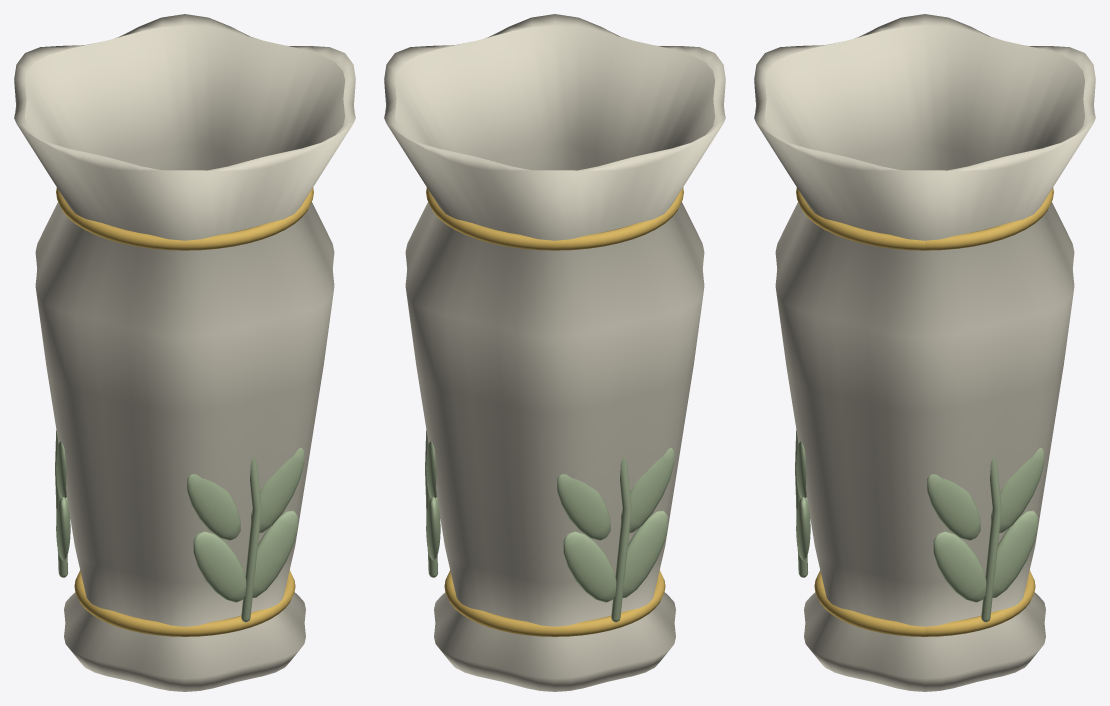
The model's file is vase_lily.glb.
3 renders of one model, left to right at view 1: azimuth 30°, elevation 25°; view 2: azimuth 150°, elevation 25°; view 3: azimuth 270°, elevation 25°, orthographic.
Parts seen in each view (by area): view 1: Ivory_lily_body, Lily_brass_band.001, Lily_brass_band, Relief_leaf, Relief_leaf.001, Relief_leaf.003, Relief_leaf.004, Relief_stem, Relief_leaf.015; view 2: Ivory_lily_body, Lily_brass_band.001, Lily_brass_band, Relief_leaf.012, Relief_leaf.013, Relief_leaf.015, Relief_leaf.016, Relief_stem.002, Relief_leaf.009; view 3: Ivory_lily_body, Lily_brass_band.001, Lily_brass_band, Relief_leaf.006, Relief_leaf.007, Relief_leaf.009, Relief_leaf.010, Relief_stem.001, Relief_leaf.003.
Boxes of the visible parts, x1,y1,x2,y2 form: Ivory_lily_body: [14, 14, 355, 691]; Lily_brass_band.001: [56, 187, 313, 250]; Lily_brass_band: [74, 570, 295, 636]; Relief_leaf: [193, 531, 246, 602]; Relief_leaf.001: [187, 474, 240, 540]; Relief_leaf.003: [252, 510, 297, 597]; Relief_leaf.004: [251, 448, 304, 532]; Relief_stem: [241, 455, 261, 622]; Relief_leaf.015: [56, 497, 70, 560]; Ivory_lily_body: [384, 14, 725, 691]; Lily_brass_band.001: [426, 187, 683, 250]; Lily_brass_band: [444, 570, 665, 636]; Relief_leaf.012: [563, 531, 616, 602]; Relief_leaf.013: [557, 474, 610, 540]; Relief_leaf.015: [622, 510, 667, 597]; Relief_leaf.016: [621, 448, 674, 532]; Relief_stem.002: [611, 455, 631, 622]; Relief_leaf.009: [426, 497, 440, 560]; Ivory_lily_body: [754, 14, 1095, 691]; Lily_brass_band.001: [796, 187, 1053, 250]; Lily_brass_band: [814, 570, 1035, 636]; Relief_leaf.006: [933, 531, 986, 602]; Relief_leaf.007: [927, 474, 980, 540]; Relief_leaf.009: [992, 510, 1037, 597]; Relief_leaf.010: [991, 448, 1044, 532]; Relief_stem.001: [981, 455, 1001, 622]; Relief_leaf.003: [796, 497, 810, 560].
Bounding box in the file's own units: 0.1003 × 0.167 × 0.0927.
